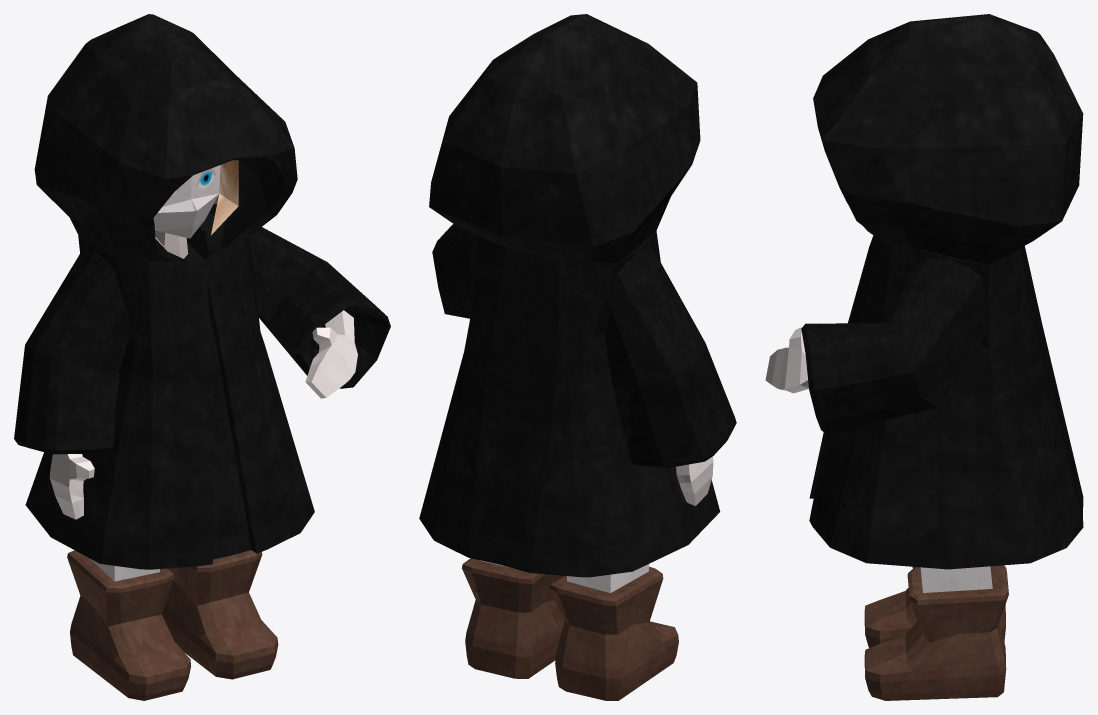
Rendered from Character 1.fbx.
The picture shows the model from 3 angles, left to right: view 1: azimuth 30°, elevation 25°; view 2: azimuth 150°, elevation 25°; view 3: azimuth 270°, elevation 25°; orthographic projection. The views are drawn at different scales.
Visible parts, largest first — view 1: Cube; view 2: Cube; view 3: Cube.
Part boxes in pixels (x1=…): Cube: x1=14, y1=14, x2=390, y2=700; Cube: x1=419, y1=14, x2=736, y2=700; Cube: x1=765, y1=14, x2=1083, y2=700.
Size of the model in its own units: 152 by 299 by 133.
